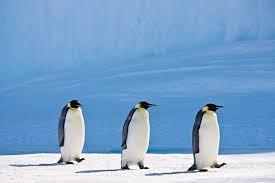emporer: (185, 102, 230, 174), (116, 100, 154, 173), (57, 99, 92, 166)
